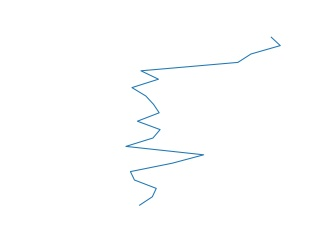crevasseRiverChannelBar: (123, 34, 283, 212)
